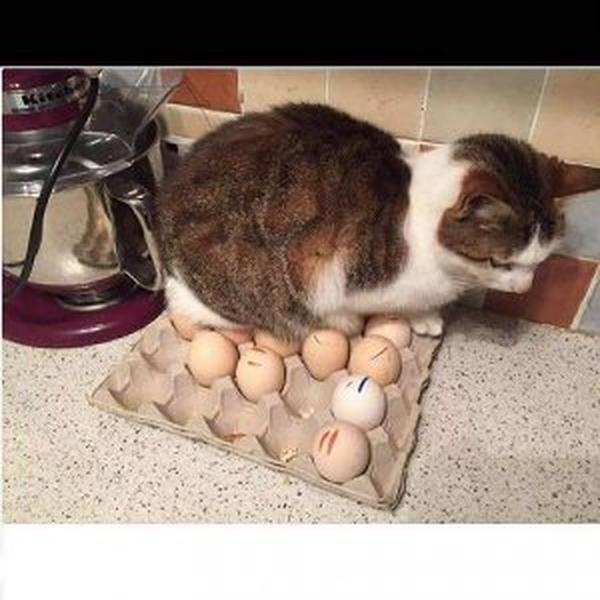michi: (139, 96, 594, 341)
